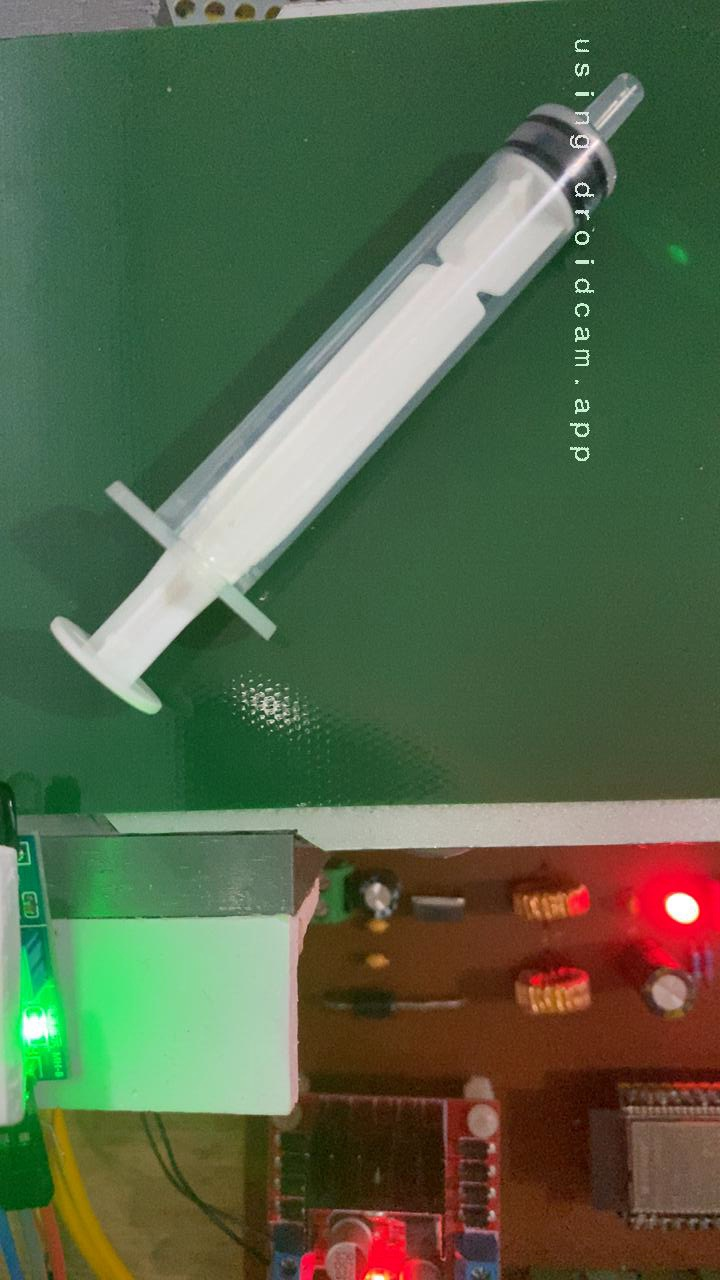syringe: (43, 67, 649, 709)
